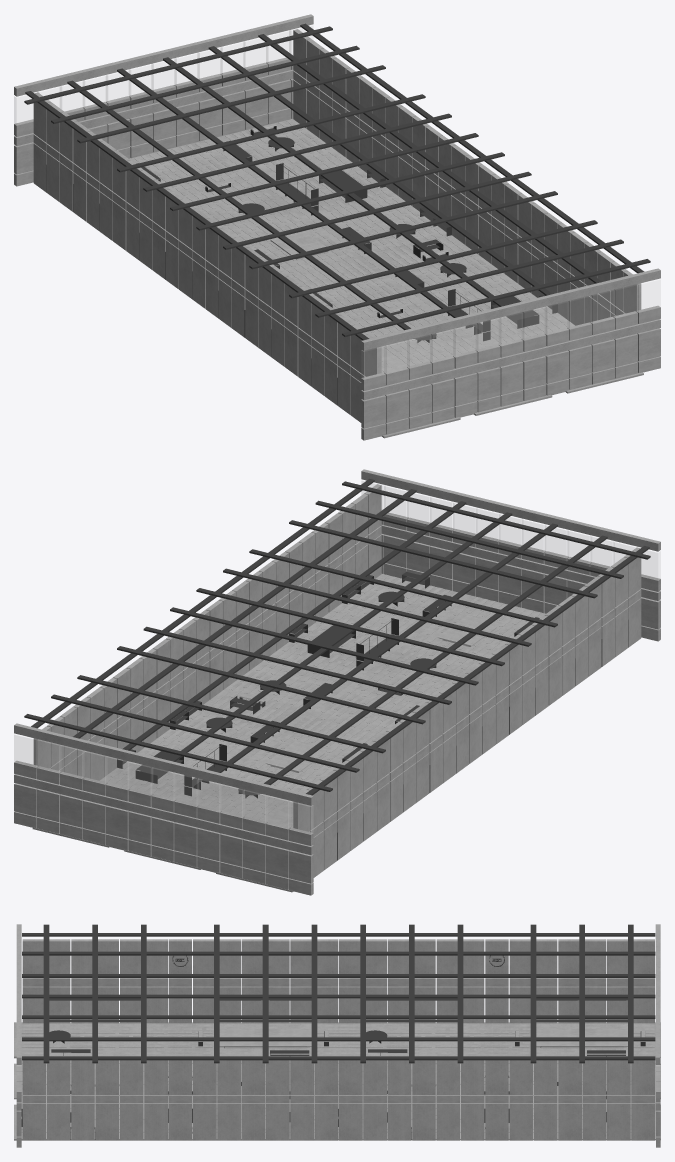
The model's file is conc-noroof-opt-v1.glb.
The picture shows the model from 3 angles, top to bottom: view 1: azimuth 30°, elevation 25°; view 2: azimuth 150°, elevation 25°; view 3: azimuth 270°, elevation 25°; orthographic projection. The views are drawn at different scales.
Visible parts, largest first — view 1: Merged Objects 8, Merged Objects 10, Merged Objects 9; view 2: Merged Objects 8, Merged Objects 10, Merged Objects 9; view 3: Merged Objects 8, Merged Objects 10, Merged Objects 9.
Boxes of the visible parts, x1,y1,x2,y2 form: Merged Objects 8: (14,14,660,440); Merged Objects 10: (24,23,650,405); Merged Objects 9: (14,25,660,378); Merged Objects 8: (14,469,660,895); Merged Objects 10: (24,478,650,860); Merged Objects 9: (14,480,660,833); Merged Objects 8: (14,924,660,1147); Merged Objects 10: (21,924,655,1139); Merged Objects 9: (16,1053,660,1099).
Size of the model in its own units: 40 by 12.4 by 79.7.
3 materials, 1 textured.
